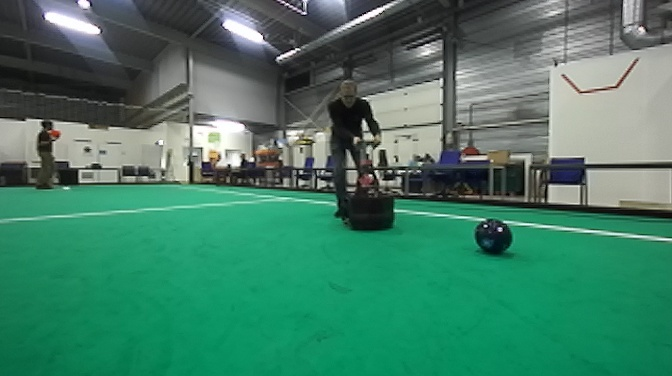ball: (474, 213, 515, 257)
human: (323, 79, 391, 224), (27, 116, 60, 193)
robot: (338, 134, 400, 235)
